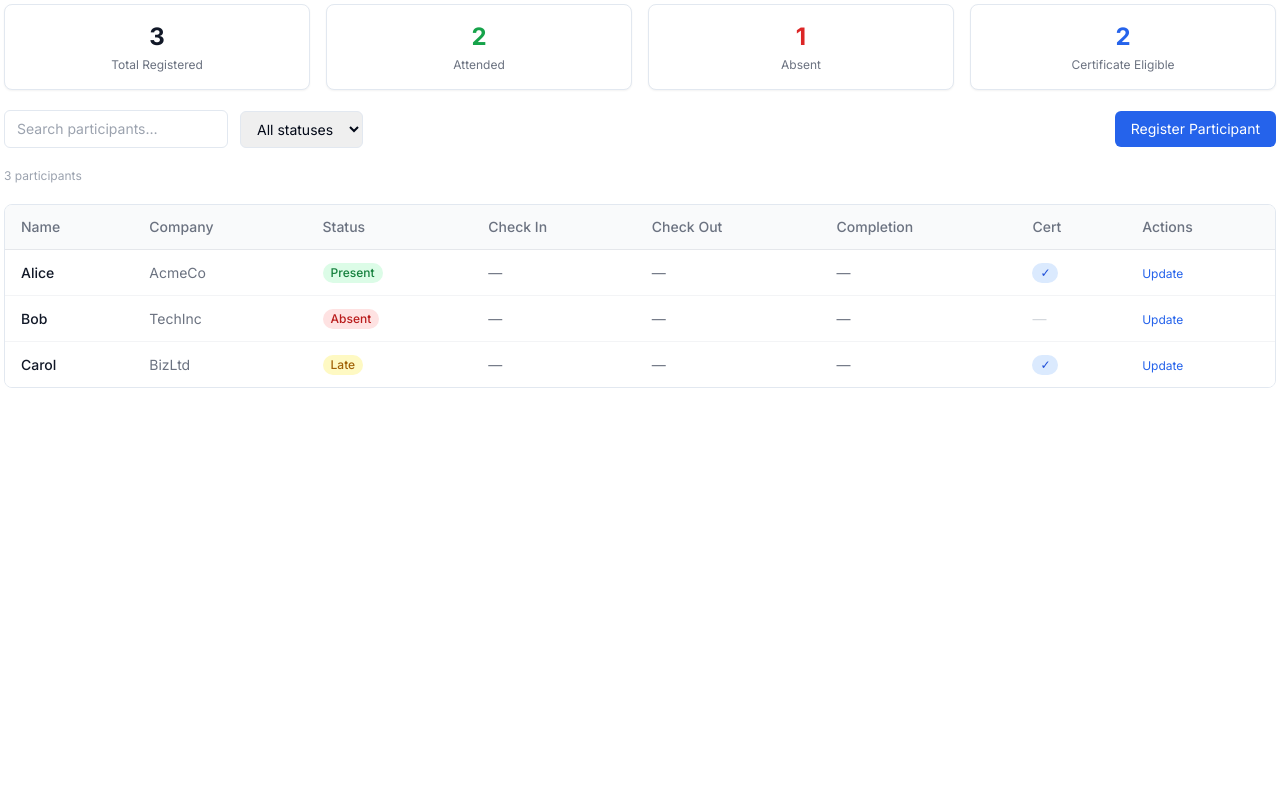
Test case: AttendanceCenter › Attendance table › clicking action button opens status dialog, not drawer
Click the button with test id "btn-action-a1": coordinates (1163, 274) [1142, 266, 1183, 282]
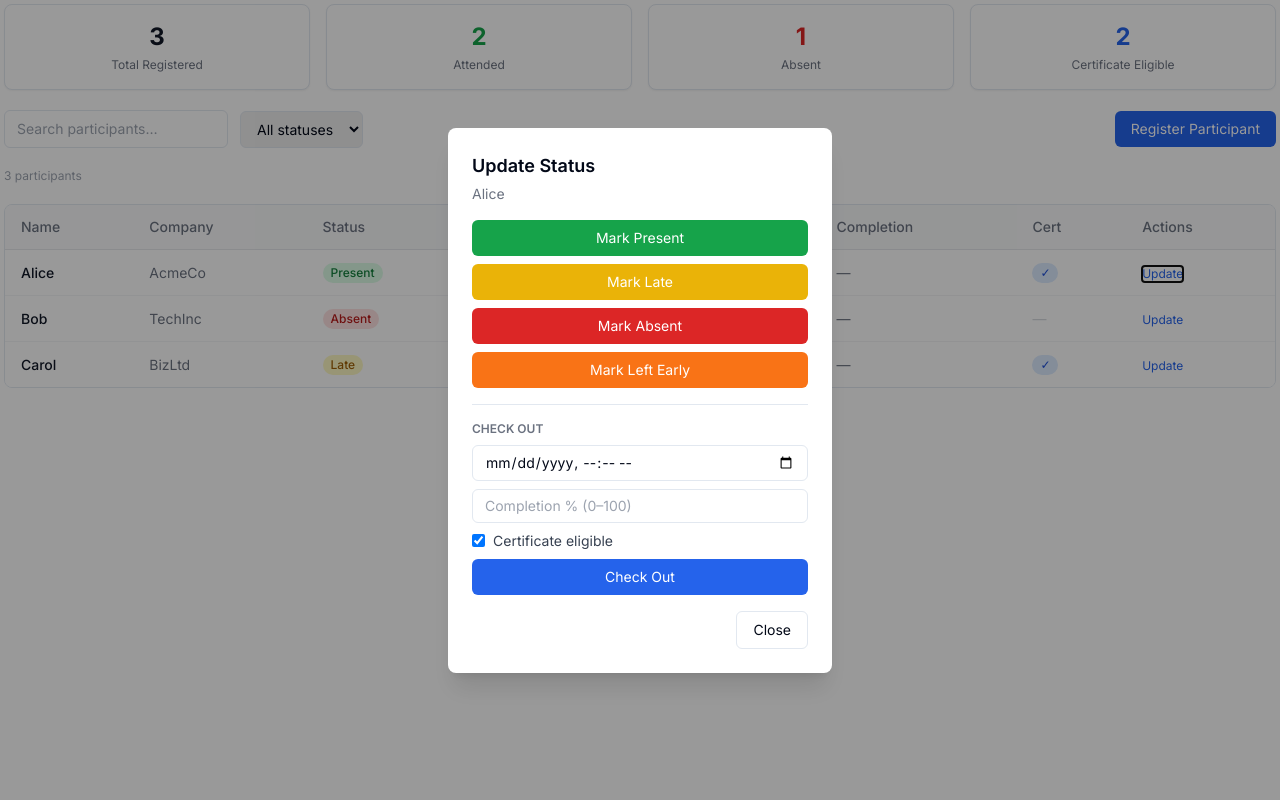
Check: the dialog with test id "status-dialog" is shown
